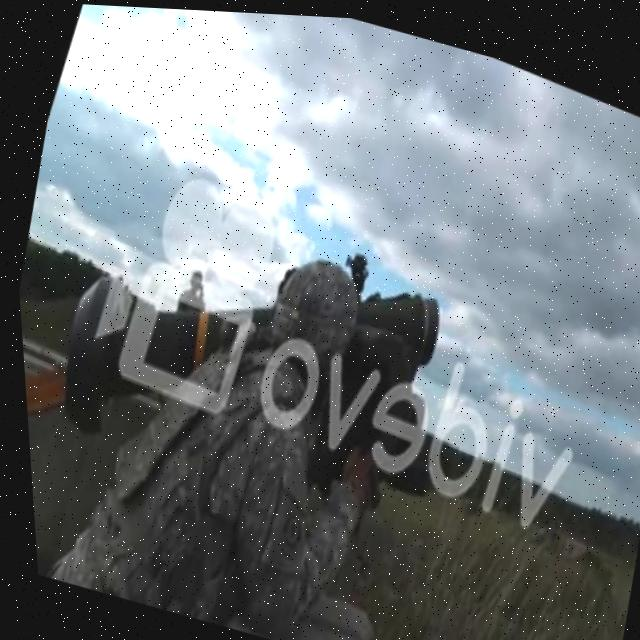rocket: (13, 153, 463, 546)
